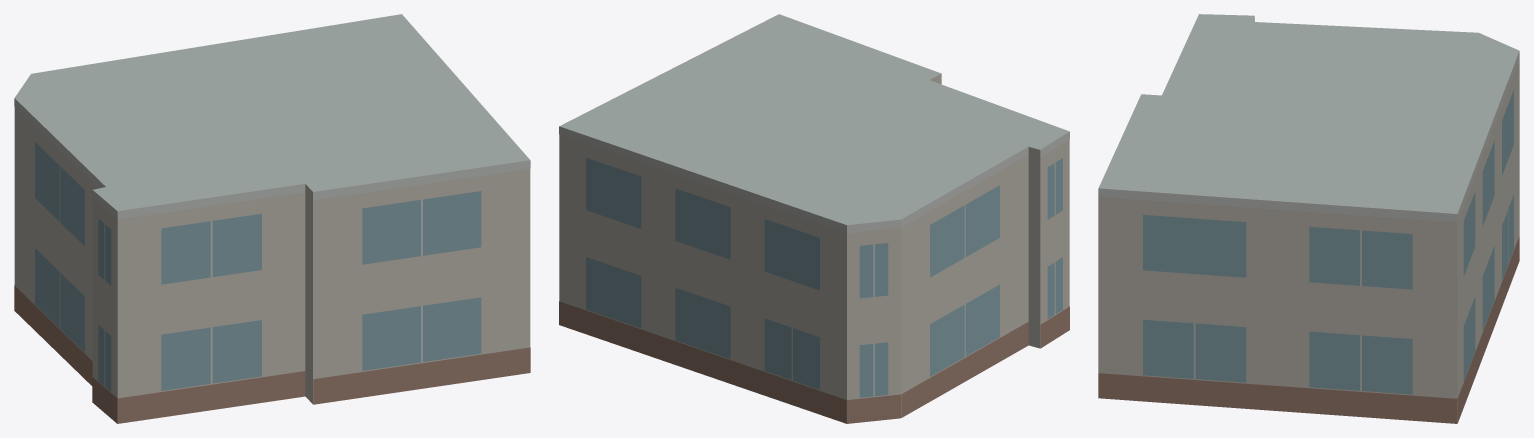
Rendered from survey-upis-32657116.glb.
3 renders of one model, left to right at view 1: azimuth 30°, elevation 25°; view 2: azimuth 150°, elevation 25°; view 3: azimuth 270°, elevation 25°, orthographic. The views are drawn at different scales.
Visible parts, largest first — view 1: survey-upis-32657116.tmp; view 2: survey-upis-32657116.tmp; view 3: survey-upis-32657116.tmp.
Part boxes in pixels (<box>): survey-upis-32657116.tmp: <box>14,14,530,423</box>; survey-upis-32657116.tmp: <box>559,14,1069,423</box>; survey-upis-32657116.tmp: <box>1098,14,1519,423</box>.
Size of the model in its own units: 12.48 by 6.1 by 11.11.
